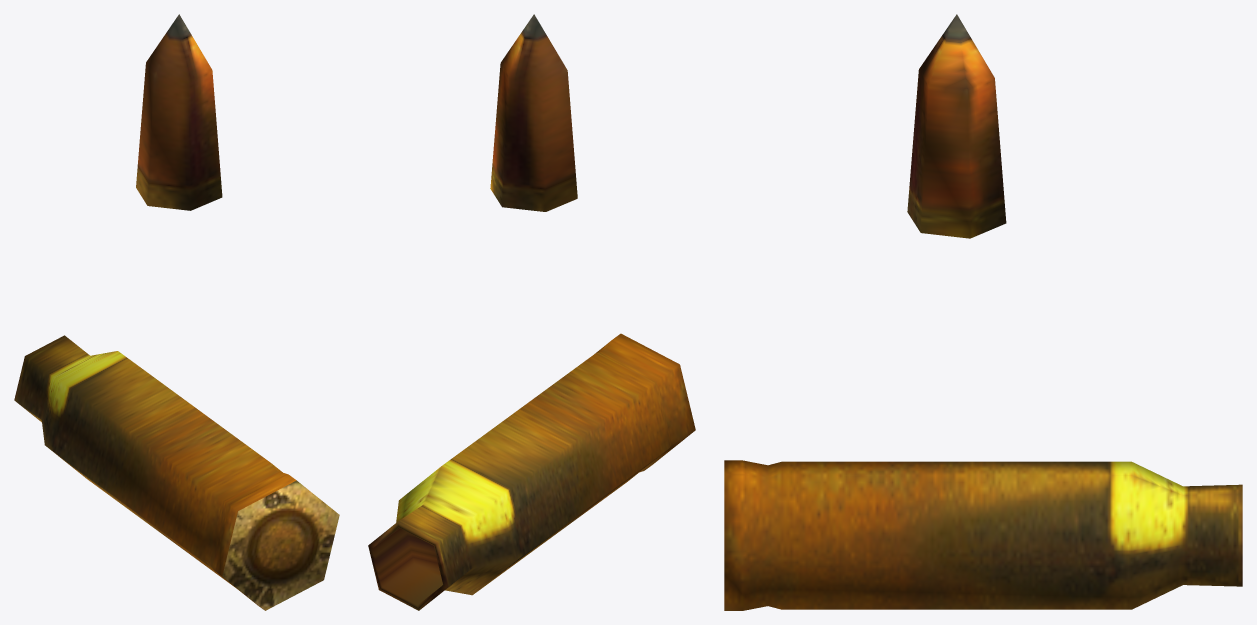
Rendered from RifleBulletSeperate.glb.
3 views of the same model, side by side, from view 1: azimuth 30°, elevation 25°; view 2: azimuth 150°, elevation 25°; view 3: azimuth 270°, elevation 25° (orthographic). The views are drawn at different scales.
Parts seen in each view (by area): view 1: Casing, Bullet; view 2: Casing, Bullet; view 3: Casing, Bullet.
Part boxes in pixels (x1,y1,x2,y2): Casing: (14,335,339,610); Bullet: (136,14,222,210); Casing: (368,333,695,610); Bullet: (490,14,577,211); Casing: (724,460,1242,610); Bullet: (907,14,1006,238).
Size of the model in its own units: 0.528 by 2.23 by 1.77.
1 material, 1 textured.
